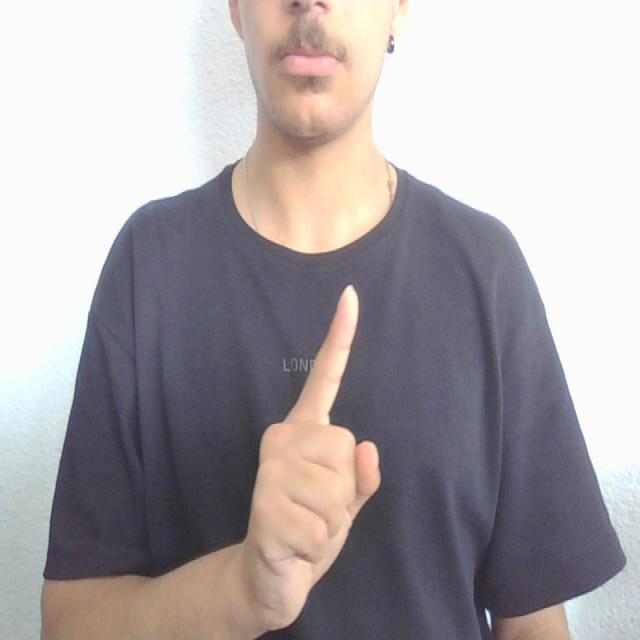Hayir: (230, 260, 400, 640)
